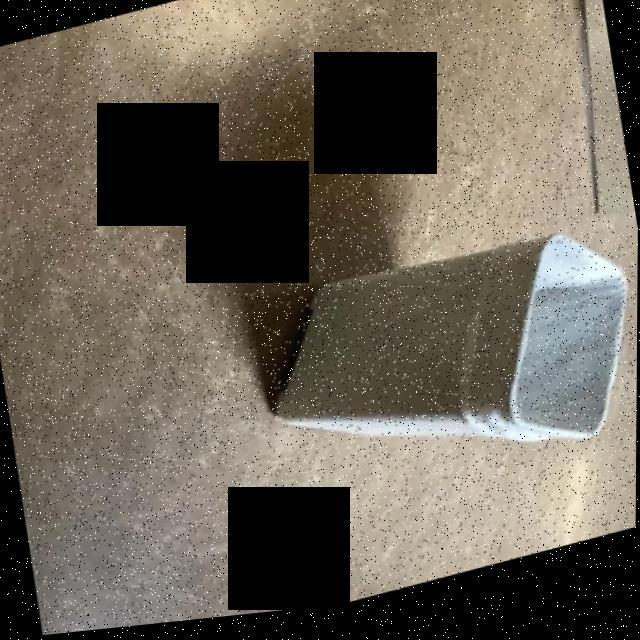bin: (218, 175, 639, 545)
